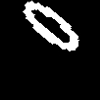chain: (23, 1, 78, 50)
